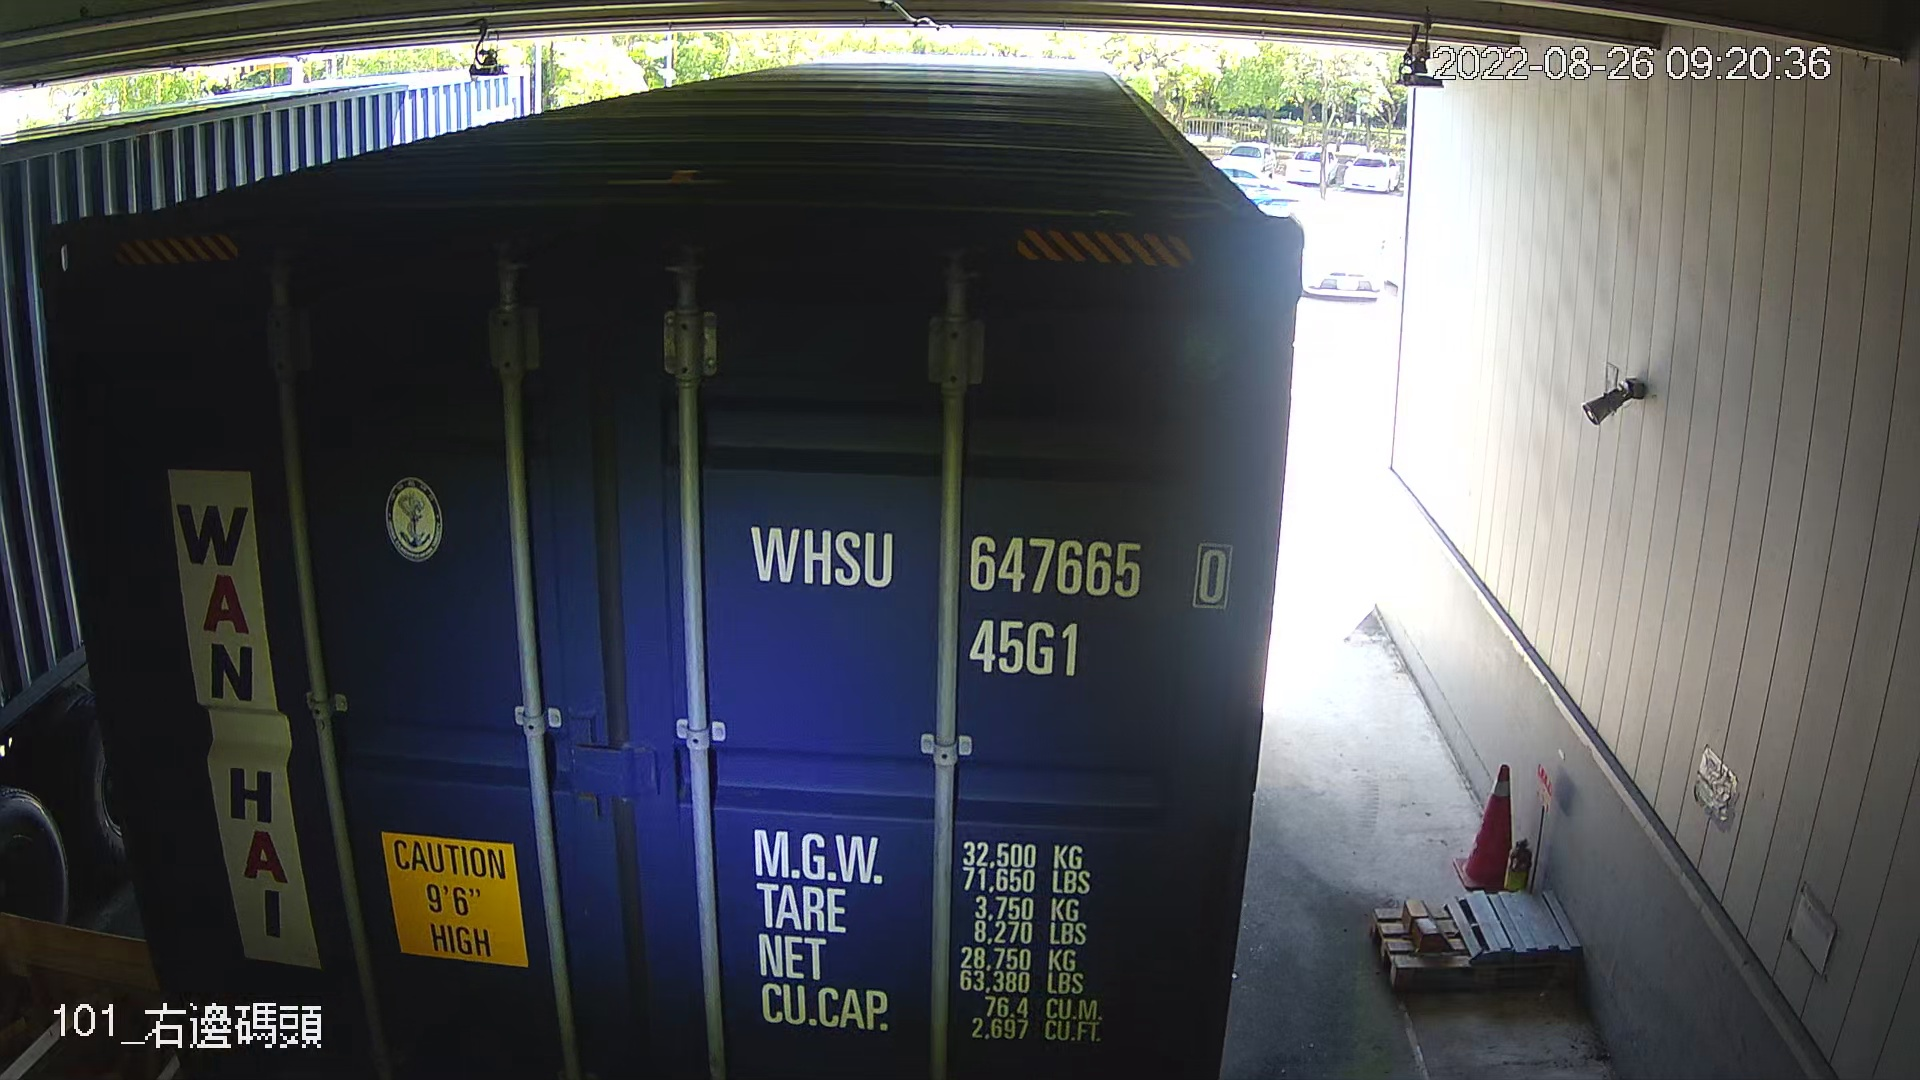container: (738, 505, 1244, 683)
